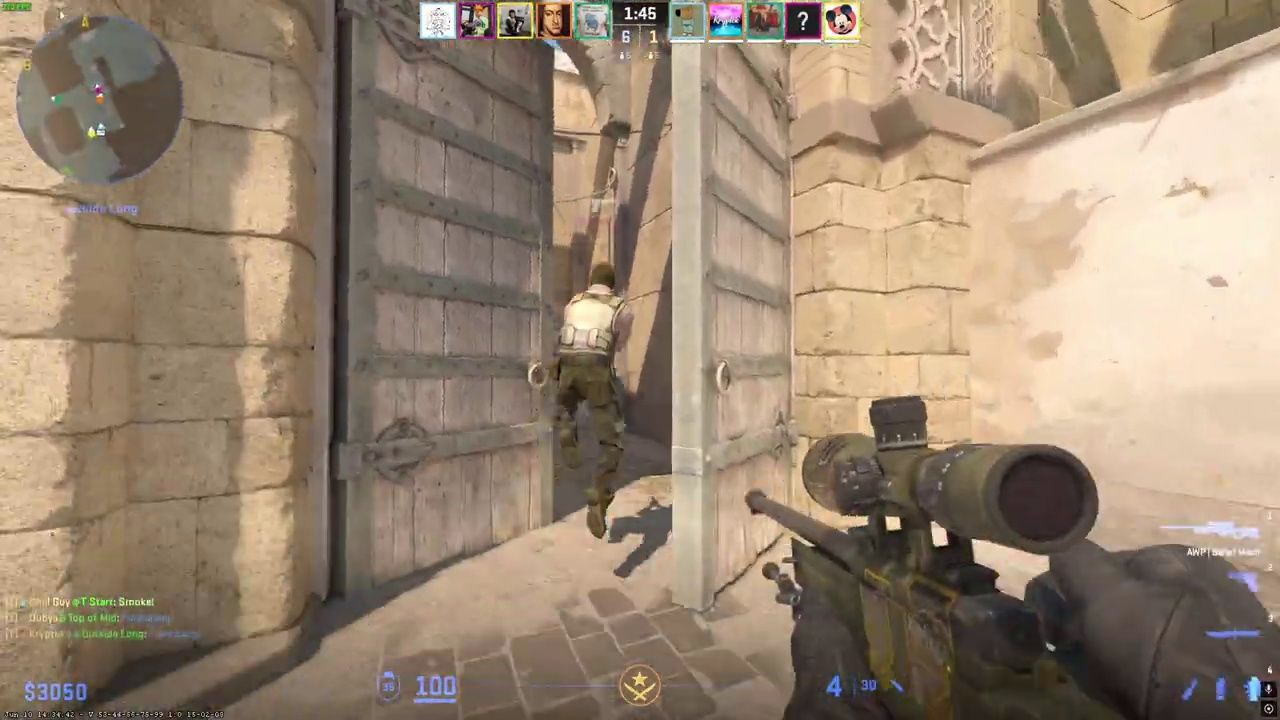Terrorist: (553, 262, 633, 539)
